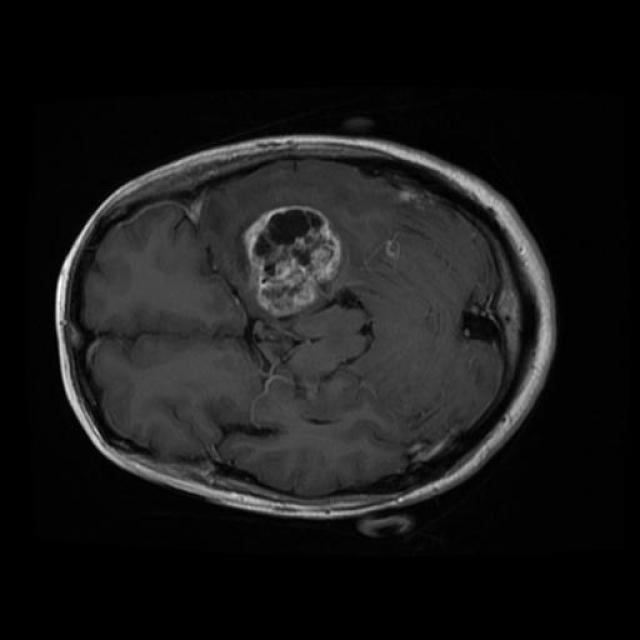Glioma: (243, 206, 342, 319)
